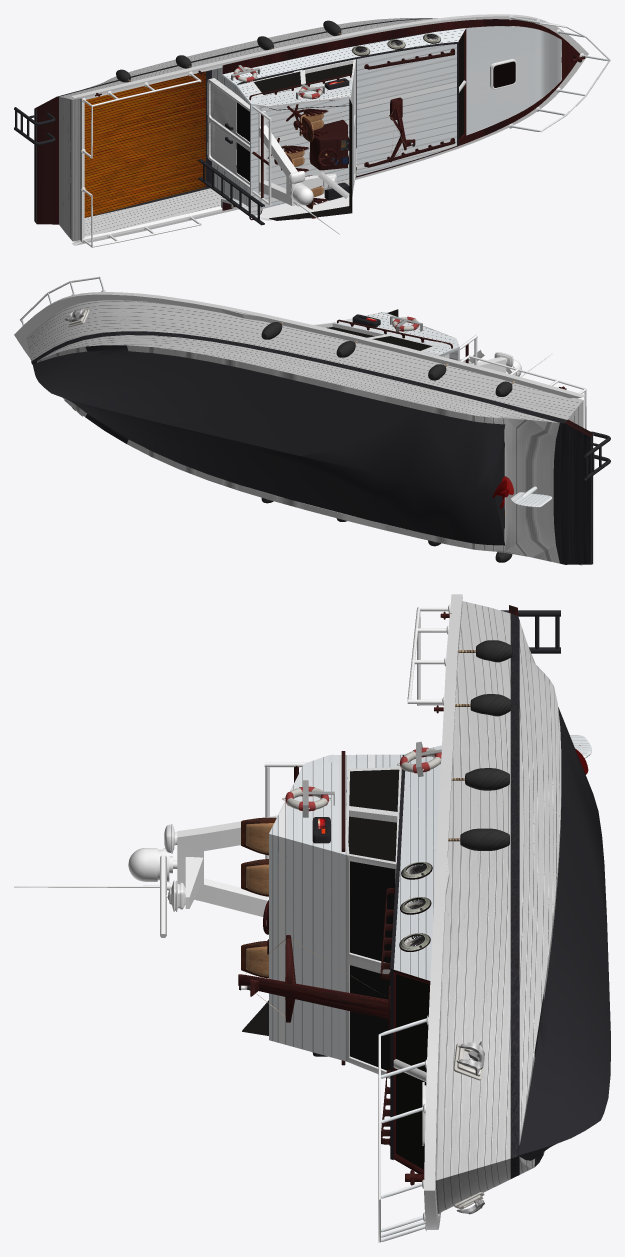
File: cabin_cruiser_minnow.obj
3 renders of one model, top to bottom at view 1: azimuth 30°, elevation 25°; view 2: azimuth 150°, elevation 25°; view 3: azimuth 270°, elevation 25°, orthographic. The views are drawn at different scales.
Bounding box in the file's own units: 11.6 × 3.17 × 5.9.
Materials: 45 (43 with a texture image).
